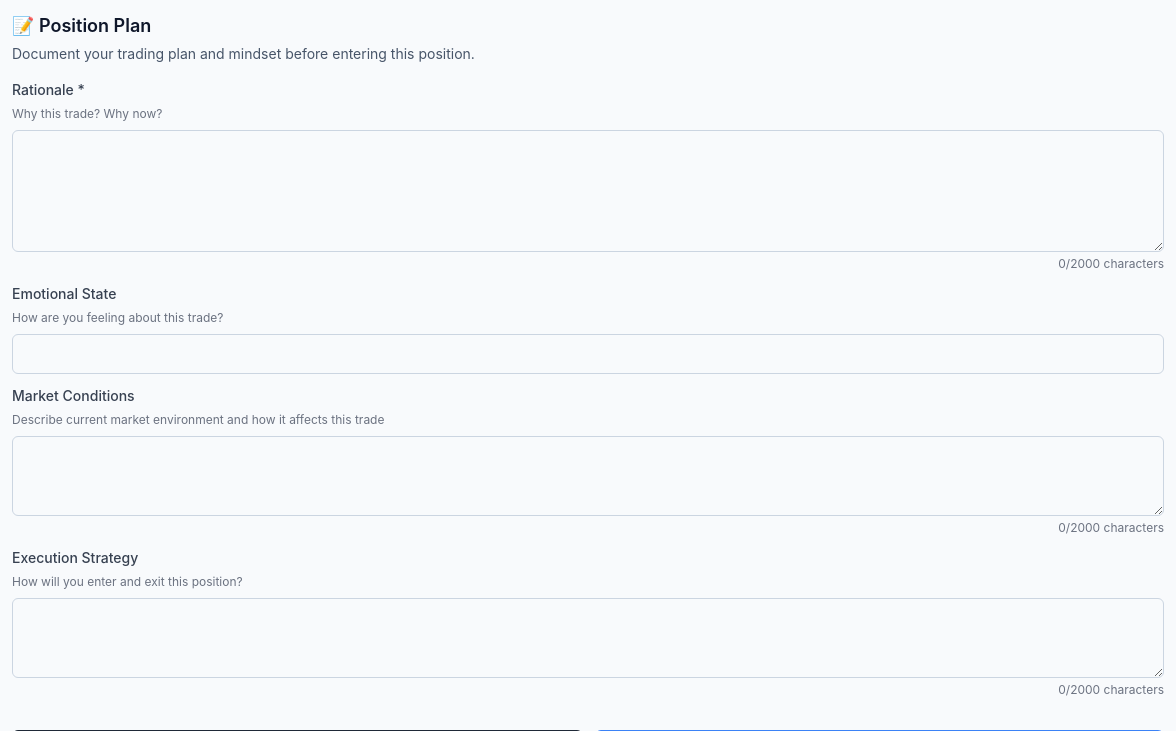
it: EnhancedJournalEntryForm › Position Plan Form › should update character count display
Type "This is a test entry with some content" into the text box labelled "Rationale *" at (588, 191), box [12, 130, 1164, 252]
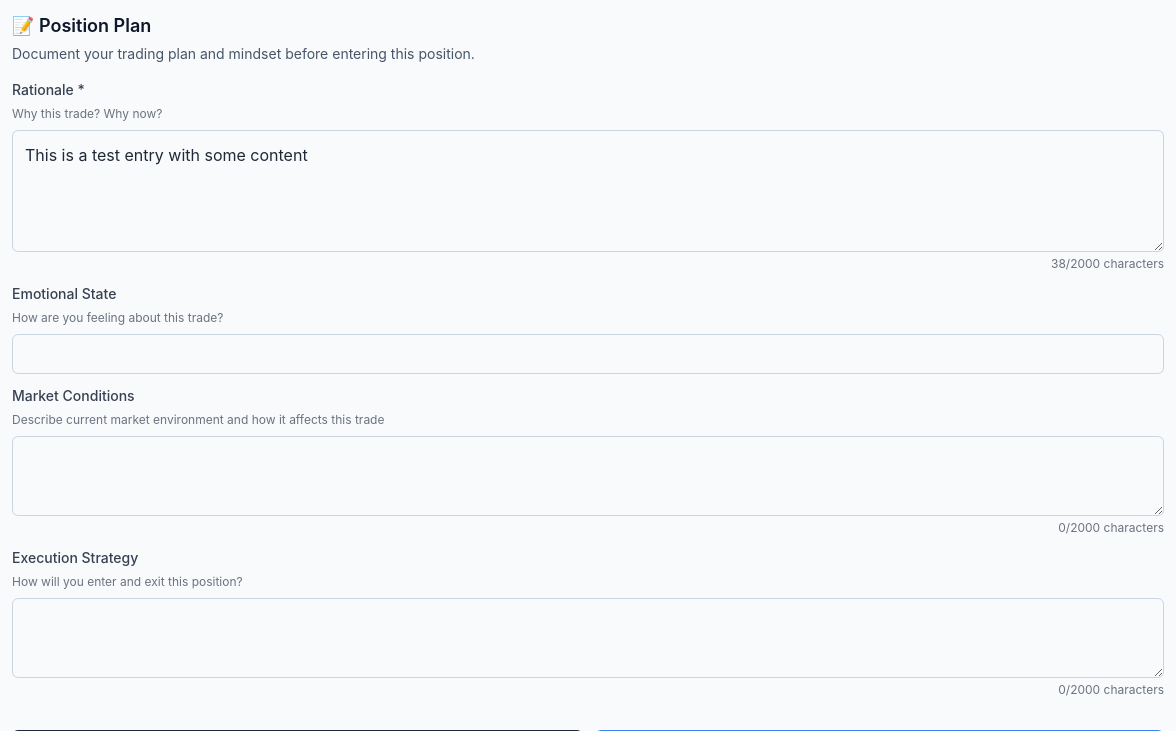
Check: the element labelled "Rationale * Why this trade? Why now? 38/2000 characters" is shown, box [12, 80, 1164, 272]
